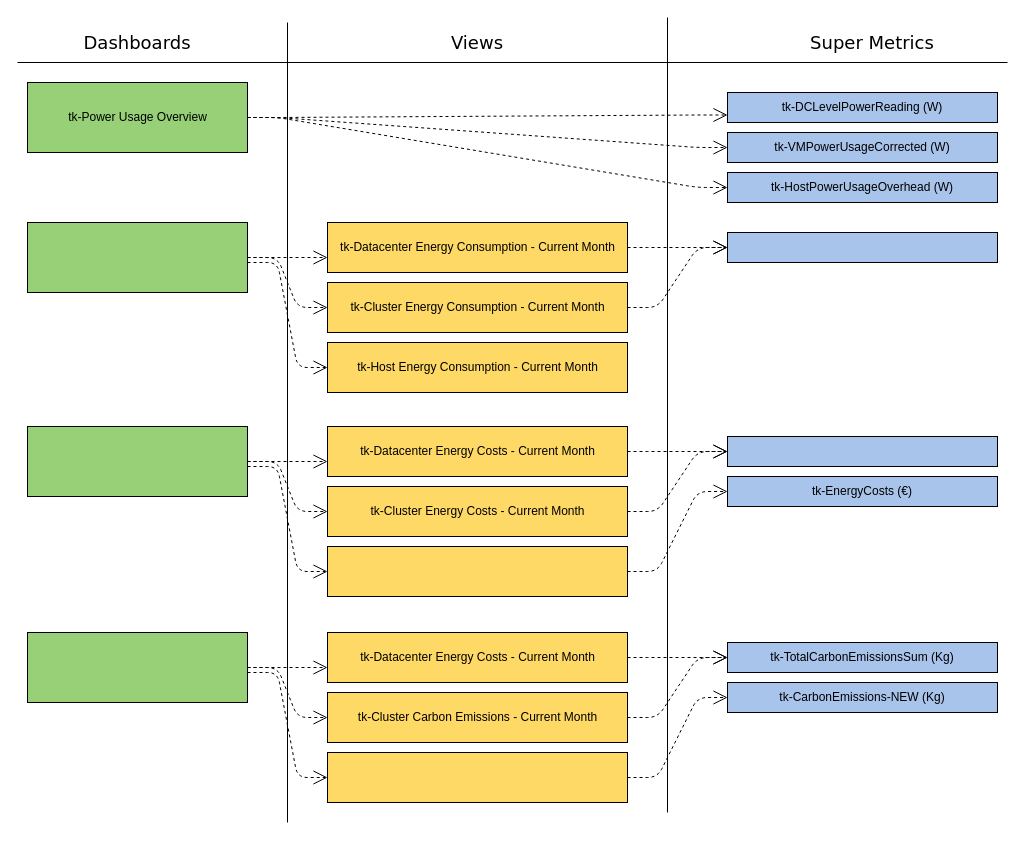
This 1026x841 diagram has some shape labels left out. The shapes that lost their labels are listed below. From the top down, each one's centre as x and y in pixels, then its label:
At [137,257]: "tk-Energy Consumption Overview".
At [862,247]: "tk-TotalEnergyConsumptionSum (kWh)".
At [137,461]: "tk-Energy Costs Overview".
At [862,451]: "tk-TotalEnergyCostsSum (€)".
At [477,571]: "tk-Host Energy Costs - Current Month NEW".
At [137,667]: "tk-Carbon Emissions Overview".
At [477,777]: "tk-Host Carbon Emissions - Current Month".
